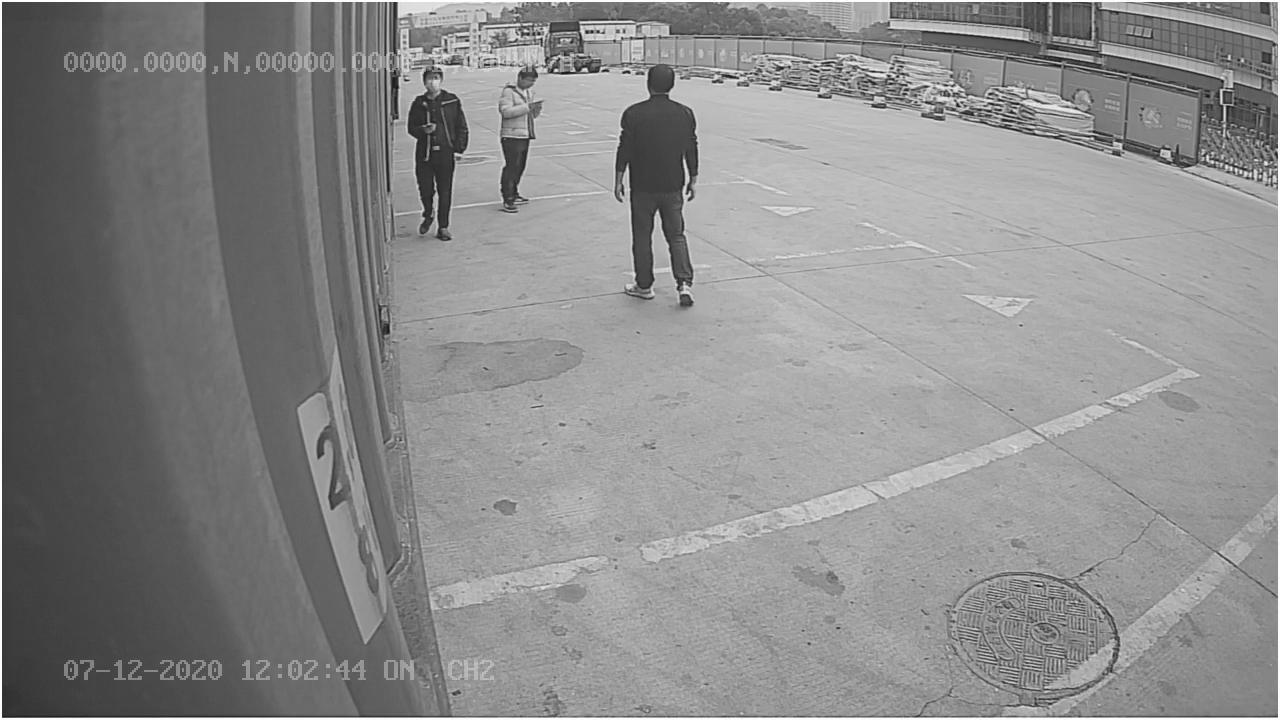person: (614, 62, 704, 316)
